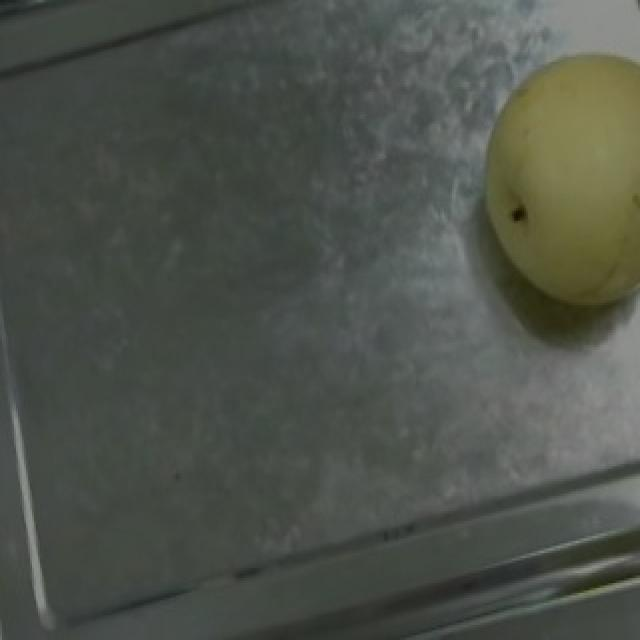Fruit: (442, 22, 640, 340)
